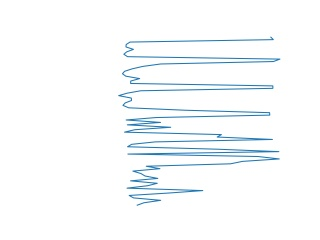crevasseRiverChannelBar: (121, 159, 281, 205)
majorRiverBedLagDeposit: (121, 123, 287, 162)
majorRiverChannelBar: (115, 36, 284, 119)
